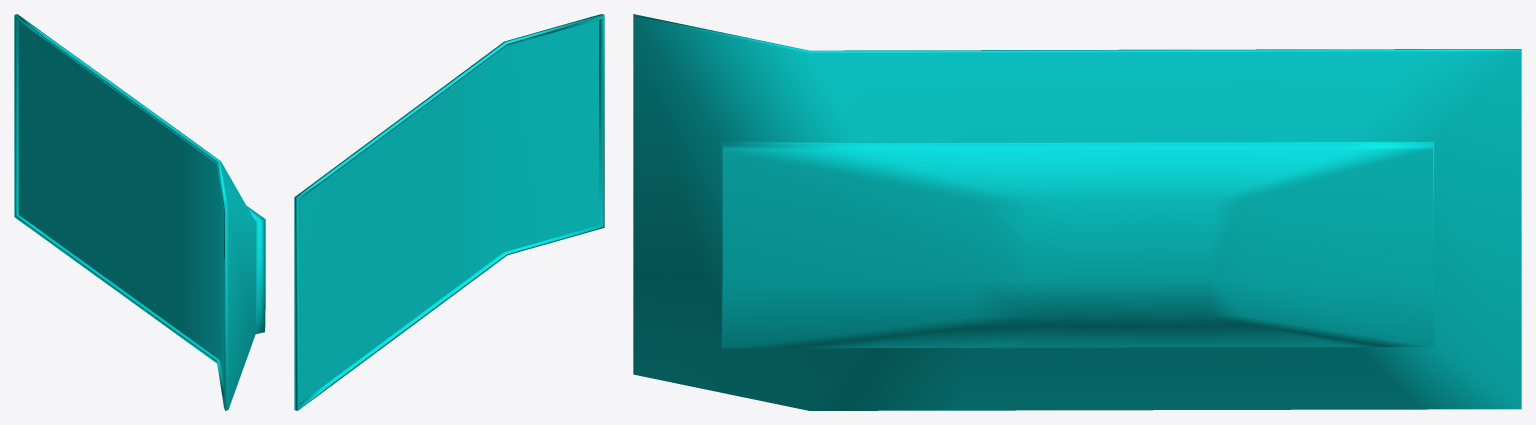
The model's file is mdl_Corredor_TV_Der.fbx.
The picture shows the model from 3 angles, left to right: view 1: azimuth 30°, elevation 25°; view 2: azimuth 150°, elevation 25°; view 3: azimuth 270°, elevation 25°; orthographic projection. The views are drawn at different scales.
Visible parts, largest first — view 1: mdl_Corredor_TV_Der; view 2: mdl_Corredor_TV_Der; view 3: mdl_Corredor_TV_Der.
Boxes of the visible parts, x1,y1,x2,y2 form: mdl_Corredor_TV_Der: (14, 14, 265, 410); mdl_Corredor_TV_Der: (294, 14, 604, 410); mdl_Corredor_TV_Der: (633, 14, 1521, 410).
Size of the model in its own units: 1.04 by 2.64 by 5.94.
